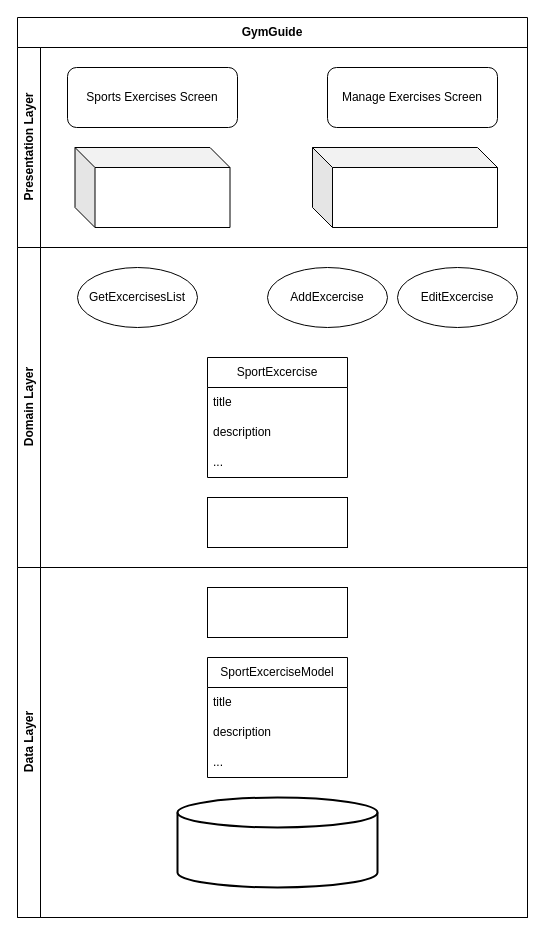
This 545x935 diagram has some shape labels left out. Here are the shapes that lost their labels. From the top down, the centre of each, then its label:
At point (152, 187): "ExcercisesBloC".
At point (405, 187): "ManageExcercisesCubit".
At point (277, 522): "ISportExcercisesRepo".
At point (277, 612): "SportExcercisesRepo".
At point (277, 842): "SQLite Local Storage (sqflite)".
